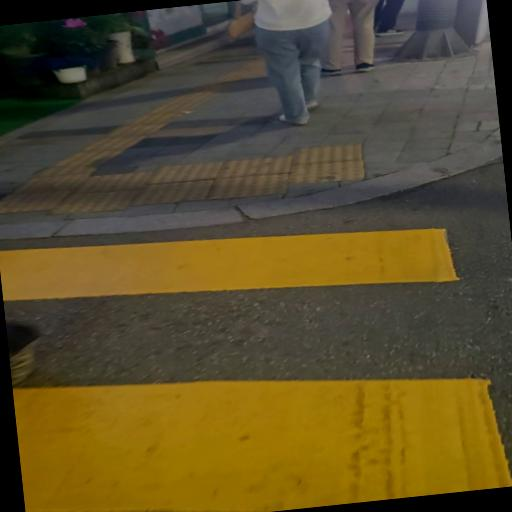yellow-crosswalk: (0, 173, 512, 512)
